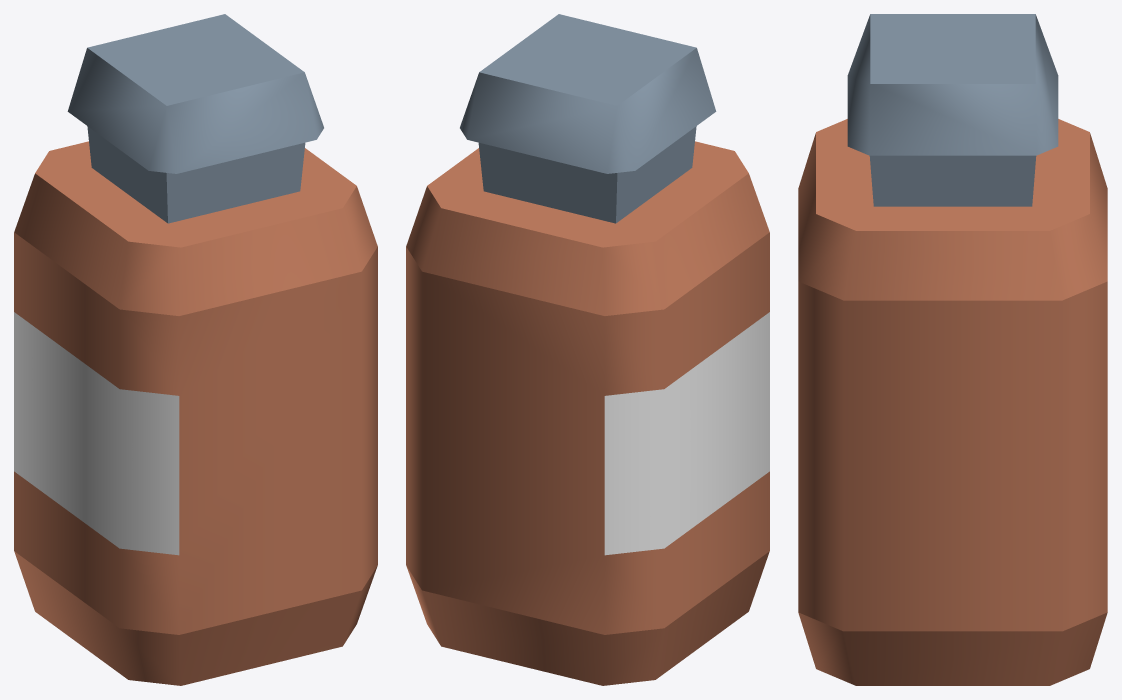
The model's file is shakerSalt.GLB.
3 views of the same model, side by side, from view 1: azimuth 30°, elevation 25°; view 2: azimuth 150°, elevation 25°; view 3: azimuth 270°, elevation 25° (orthographic). The views are drawn at different scales.
Visible parts, largest first — view 1: shakerSalt; view 2: shakerSalt; view 3: shakerSalt.
Boxes of the visible parts, bbox=[...] form: shakerSalt: bbox=[14, 14, 377, 685]; shakerSalt: bbox=[406, 14, 769, 685]; shakerSalt: bbox=[798, 14, 1107, 685].
Size of the model in its own units: 0.0949 by 0.196 by 0.0949.
